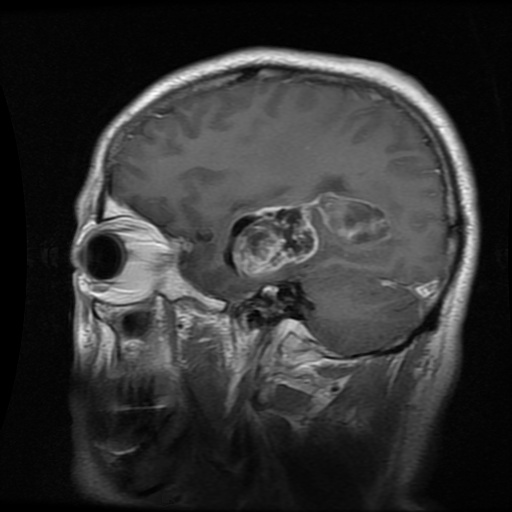glioma: (222, 192, 393, 277)
